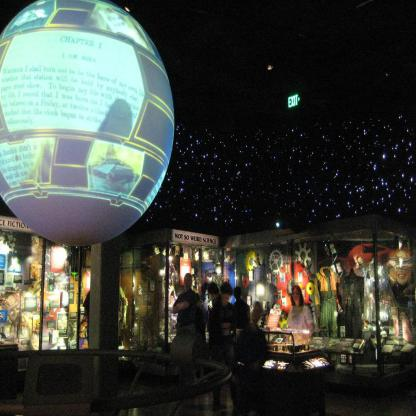Ball: (0, 0, 174, 248)
